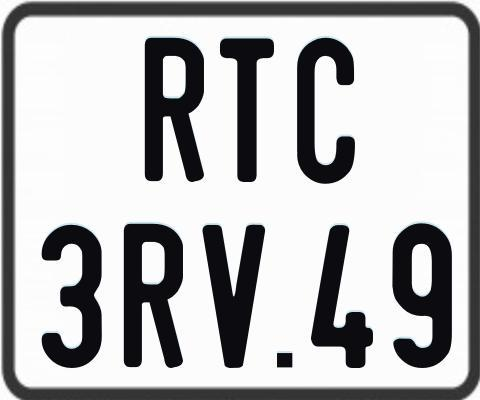3: (39, 222, 101, 370)
4: (311, 222, 373, 368)
9: (390, 223, 454, 372)
C: (295, 35, 357, 184)
R: (142, 35, 206, 183), (122, 224, 182, 368)
T: (218, 35, 273, 180)
V: (200, 222, 262, 365)
